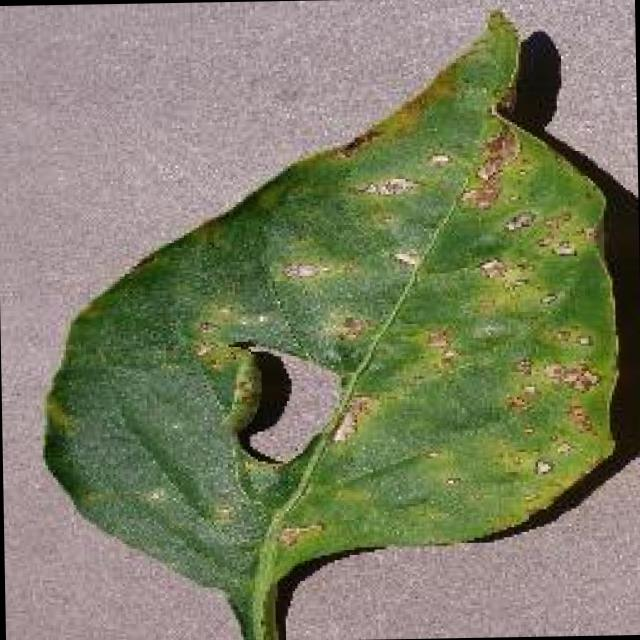Chilli_Bacterial_Spot: (29, 2, 640, 640), (330, 120, 616, 490), (454, 121, 521, 212), (506, 26, 564, 128), (538, 355, 602, 396), (471, 248, 532, 288), (352, 171, 420, 202), (535, 318, 596, 352), (273, 515, 326, 551), (276, 256, 330, 284), (561, 398, 597, 436), (388, 243, 422, 274), (474, 252, 509, 282), (501, 207, 538, 234), (530, 454, 553, 478)
